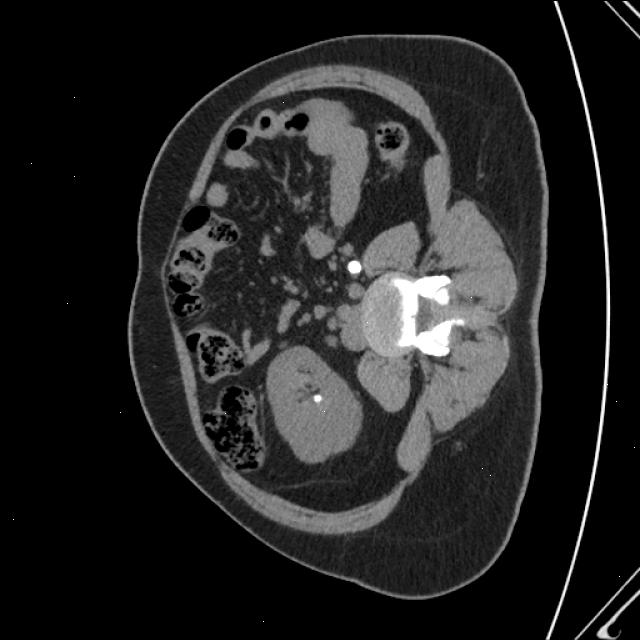kidneystone: (348, 259, 362, 274), (312, 392, 322, 401)
